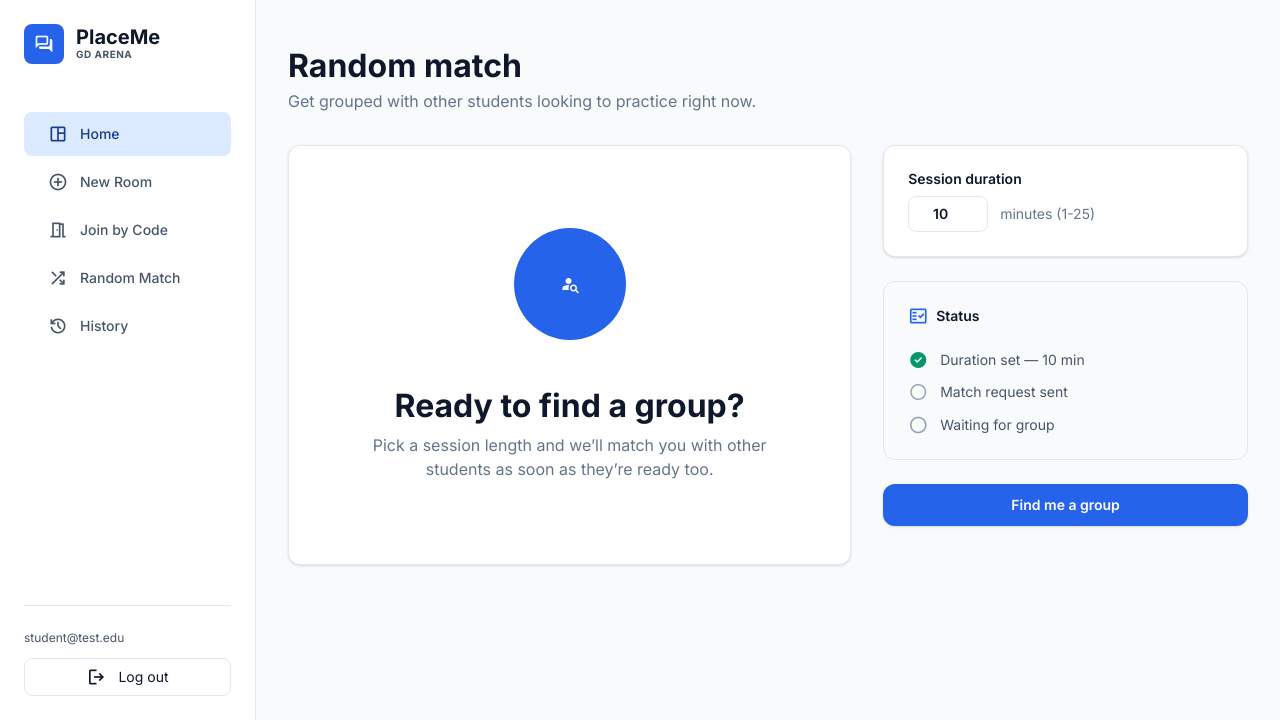
Test: MatchPage cancel-matching affordance › shows a cancel button once queued, and cancels back to the pre-queue state
Click the button "Find me a group" at (1066, 505), box [883,484,1248,526]
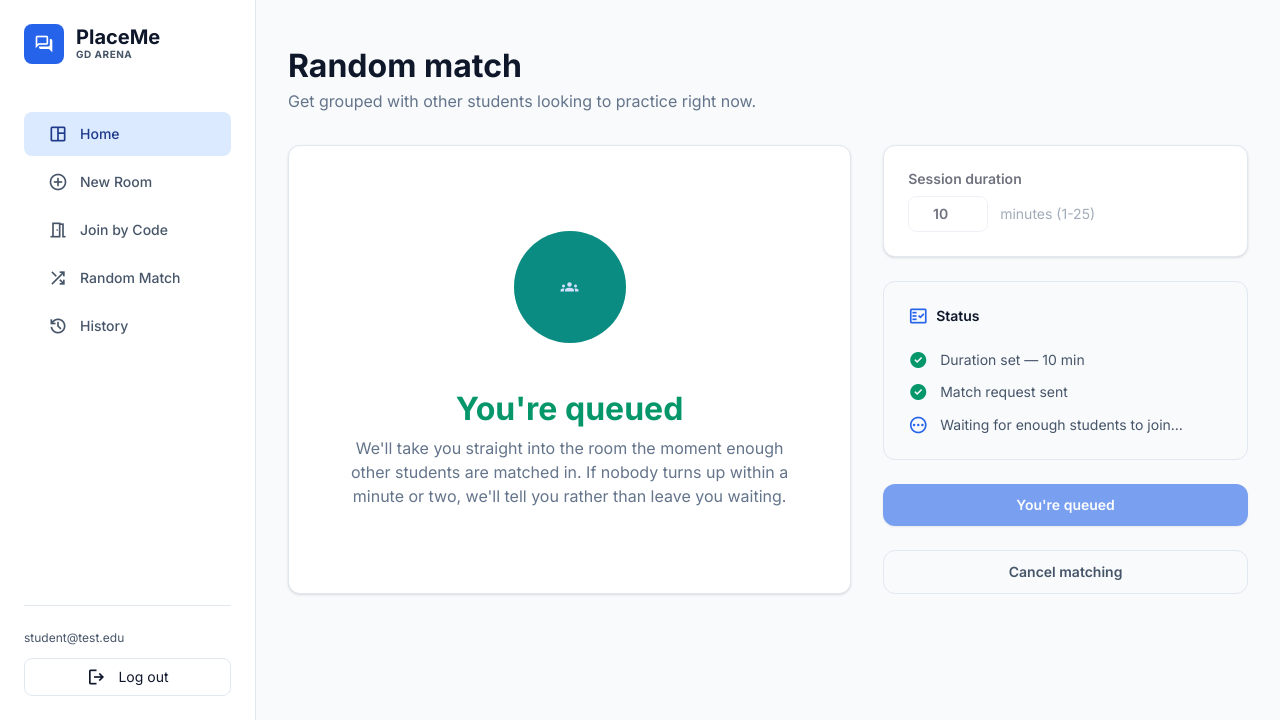
Click the button "Cancel matching" at (1066, 572), box [883,550,1248,594]
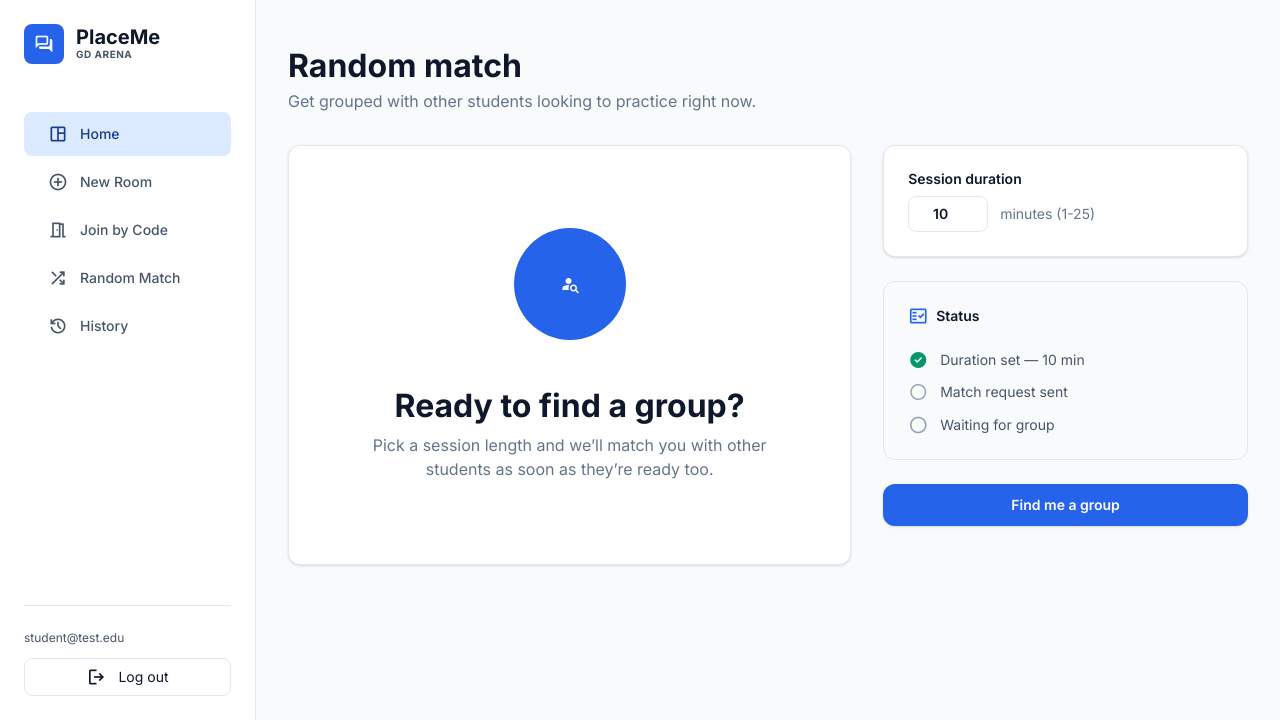
Check: the button "Cancel matching" is gone
Check: the button "Find me a group" is shown, box [883,484,1248,526]
